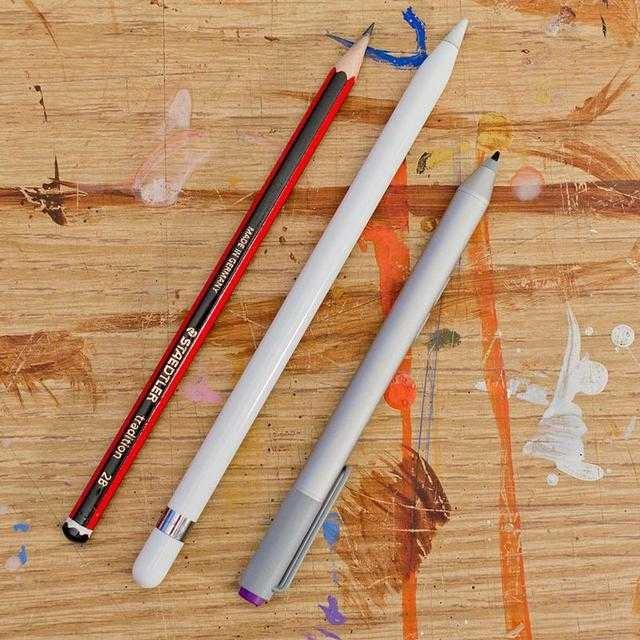pencil: (40, 10, 384, 559)
